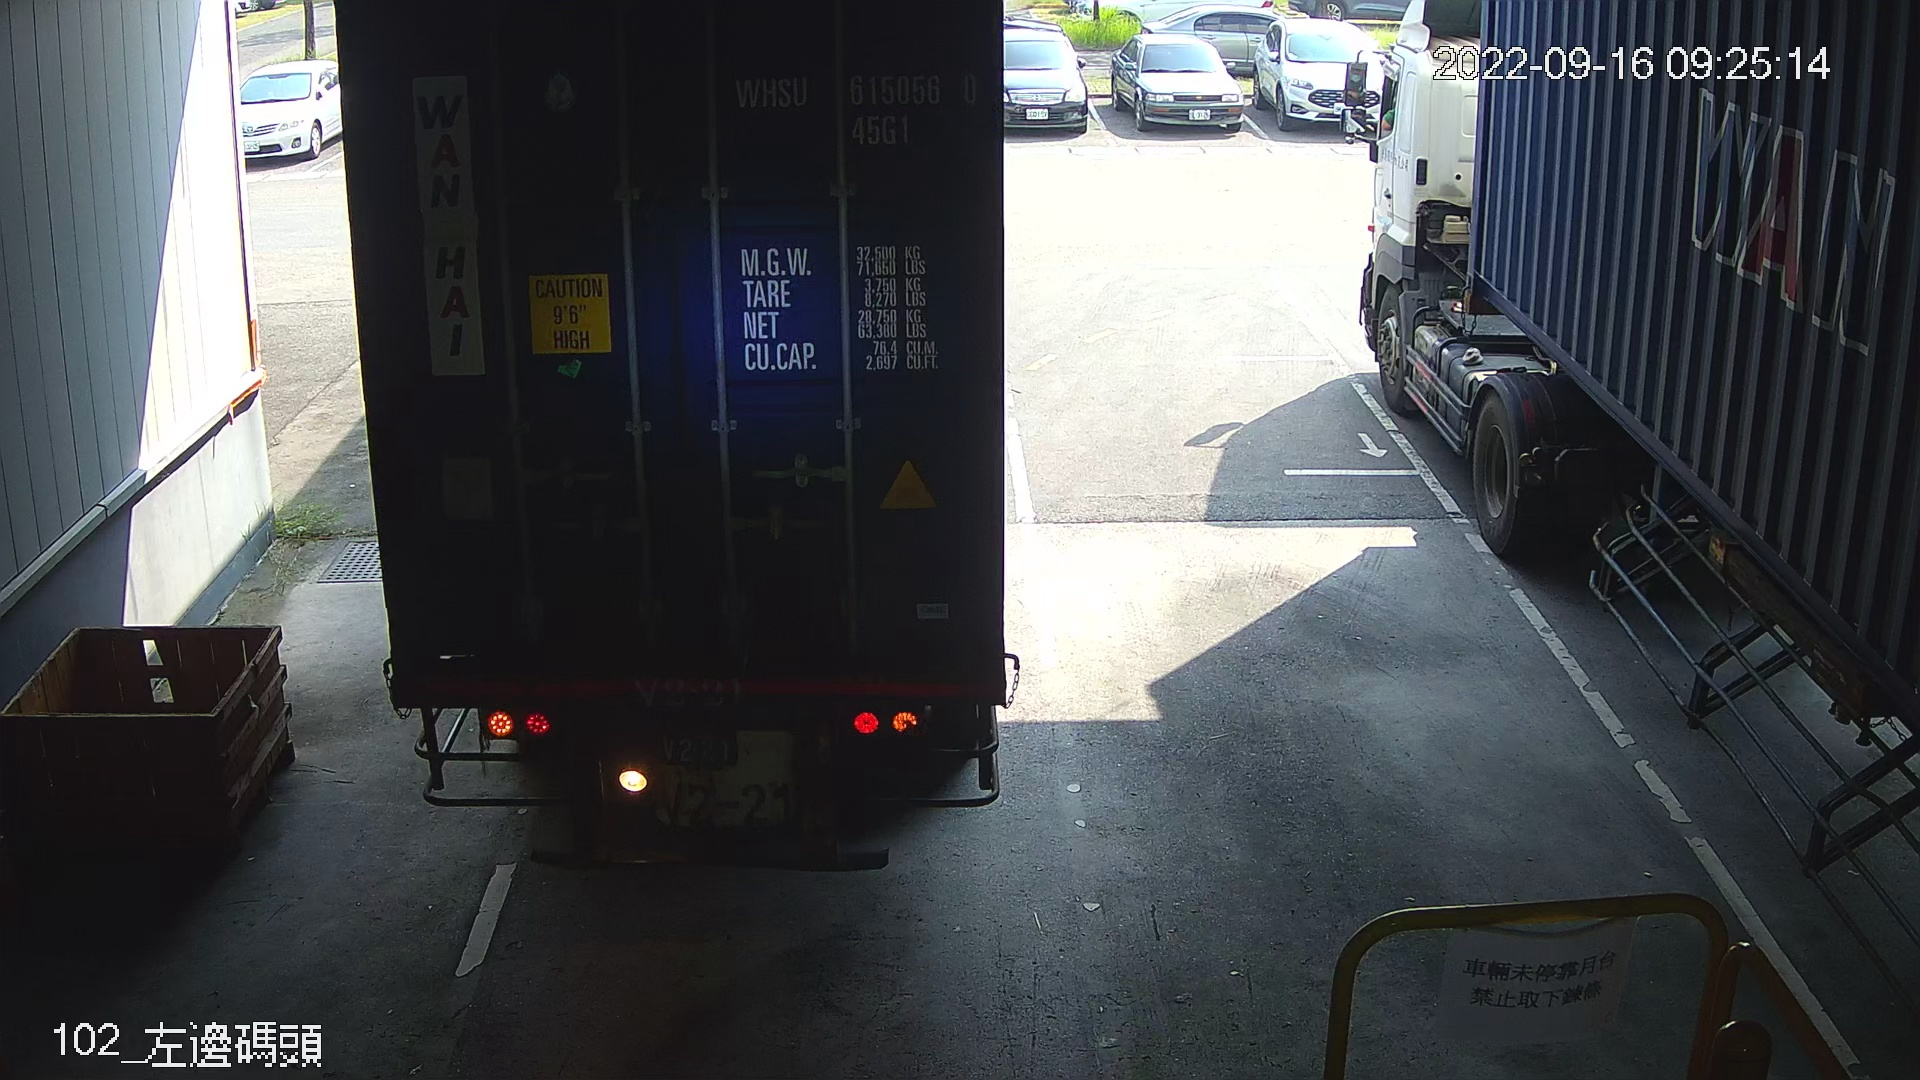container: (720, 63, 989, 157)
